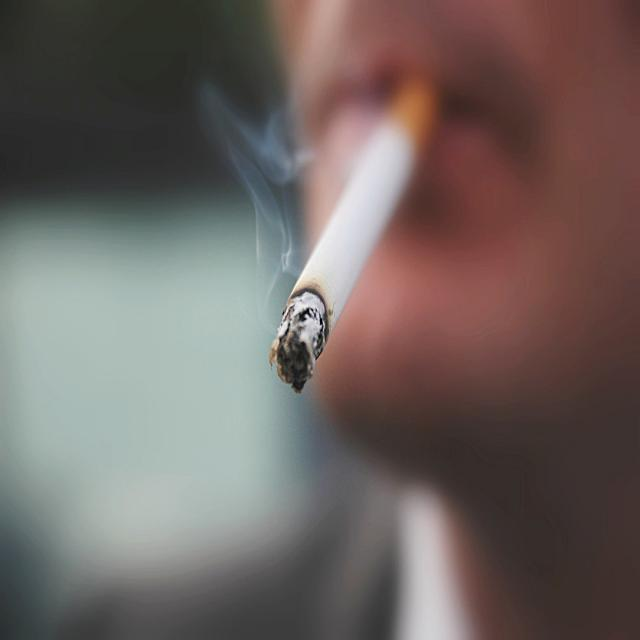cigarette: (266, 67, 447, 392)
